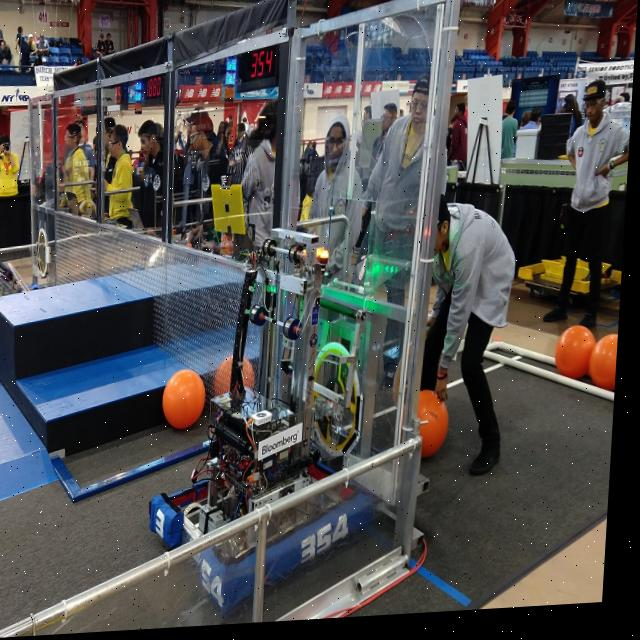robot: (145, 200, 402, 620)
